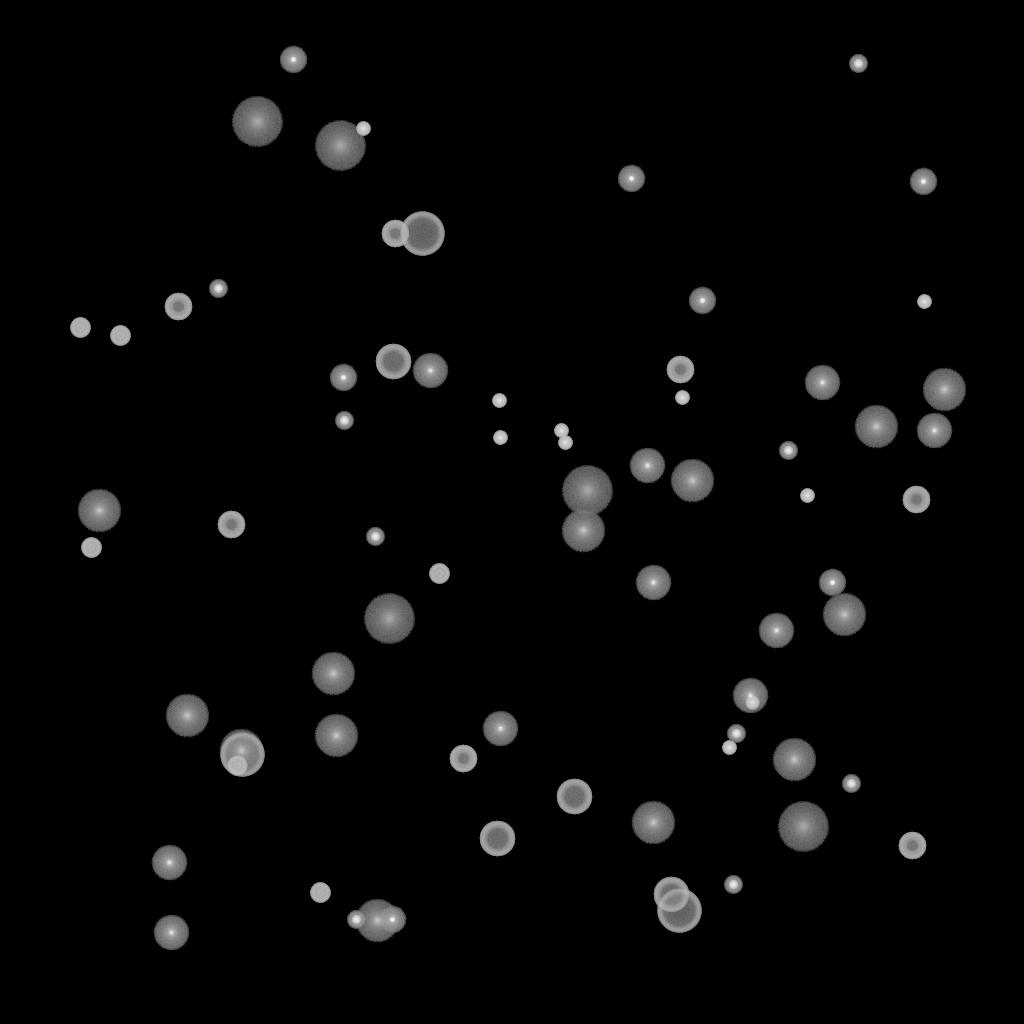depth:-10: (909, 168, 937, 196), (279, 46, 307, 74), (617, 165, 645, 193), (329, 364, 357, 392), (818, 569, 846, 597), (378, 906, 406, 934), (688, 287, 716, 315)
depth:-20: (849, 55, 867, 73), (842, 775, 860, 793), (724, 876, 742, 894), (209, 280, 227, 298), (366, 528, 384, 546), (347, 911, 365, 929), (335, 412, 353, 430), (727, 725, 745, 743), (779, 442, 797, 460)
depth:-30: (356, 122, 370, 136), (554, 424, 568, 438), (917, 295, 931, 309), (722, 741, 736, 755), (493, 431, 507, 445), (675, 391, 689, 405), (492, 394, 506, 408), (558, 436, 572, 450), (800, 489, 814, 503), (745, 696, 759, 710)
depth:-40: (70, 318, 90, 338), (81, 538, 101, 558), (227, 756, 247, 776), (110, 326, 130, 346), (310, 883, 330, 903), (429, 564, 449, 584)
depth:-50: (902, 486, 930, 514), (164, 293, 192, 321), (449, 745, 477, 773), (666, 356, 694, 384), (381, 220, 409, 248), (898, 832, 926, 860), (217, 511, 245, 539)
depth:-60: (653, 877, 689, 913), (375, 344, 411, 380), (479, 821, 515, 857), (556, 779, 592, 815)
depth:-70: (220, 733, 264, 777), (400, 212, 444, 256), (657, 889, 701, 933)
depth:0: (153, 915, 189, 951), (758, 613, 794, 649), (482, 711, 518, 747), (412, 353, 448, 389), (916, 413, 952, 449), (804, 365, 840, 401), (629, 448, 665, 484), (151, 845, 187, 881), (635, 565, 671, 601), (732, 678, 768, 714)
depth:10: (922, 368, 966, 412), (355, 899, 399, 943), (165, 694, 209, 738), (77, 489, 121, 533), (670, 459, 714, 503), (822, 593, 866, 637), (772, 738, 816, 782), (631, 801, 675, 845), (854, 405, 898, 449), (219, 729, 263, 773), (561, 509, 605, 553), (311, 652, 355, 696), (314, 714, 358, 758)
depth:20: (231, 97, 283, 147), (777, 802, 829, 852), (314, 121, 366, 171), (561, 466, 613, 516), (363, 594, 415, 644)
